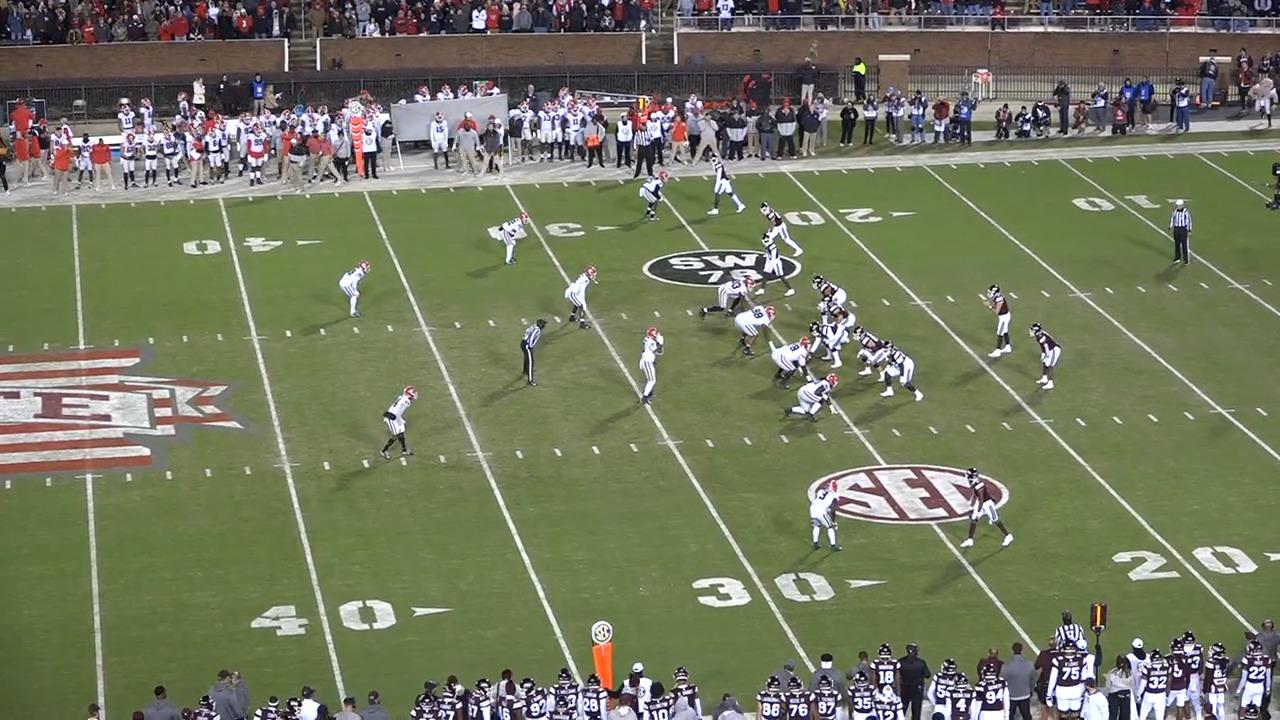player: (953, 465, 1014, 556), (373, 382, 414, 460), (808, 475, 847, 555), (881, 340, 927, 403), (754, 231, 796, 298), (783, 375, 837, 427), (701, 273, 759, 318), (760, 200, 804, 259), (979, 283, 1011, 363), (706, 153, 745, 217), (729, 305, 774, 360), (775, 338, 819, 394), (1027, 322, 1061, 392), (639, 329, 668, 411), (851, 325, 890, 384), (569, 263, 602, 329), (335, 257, 368, 318), (807, 321, 847, 370), (494, 210, 525, 265), (642, 169, 671, 225), (818, 299, 858, 329), (810, 275, 847, 307)
ref: (517, 316, 546, 390), (631, 117, 665, 180), (1165, 198, 1196, 266), (1052, 607, 1085, 657), (1263, 160, 1279, 214), (1270, 160, 1280, 214)
